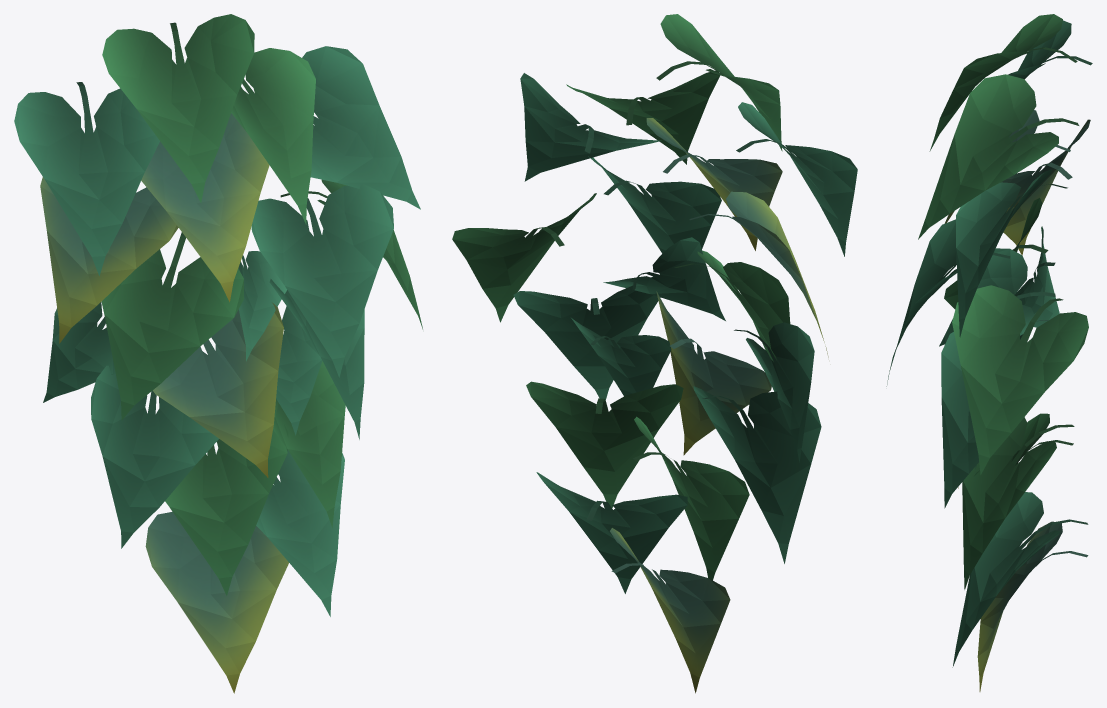
Rendered from Jungle_Ivy_C.fbx.
3 views of the same model, side by side, from view 1: azimuth 30°, elevation 25°; view 2: azimuth 150°, elevation 25°; view 3: azimuth 270°, elevation 25° (orthographic). The views are drawn at different scales.
Parts seen in each view (by area): view 1: Jungle_Ivy_C; view 2: Jungle_Ivy_C; view 3: Jungle_Ivy_C.
Boxes of the visible parts, left/top/right/bottom form: Jungle_Ivy_C: left=14, top=14, right=422, bottom=693; Jungle_Ivy_C: left=452, top=14, right=857, bottom=693; Jungle_Ivy_C: left=886, top=14, right=1092, bottom=691.
Size of the model in its own units: 1.78 by 2.98 by 0.859.
